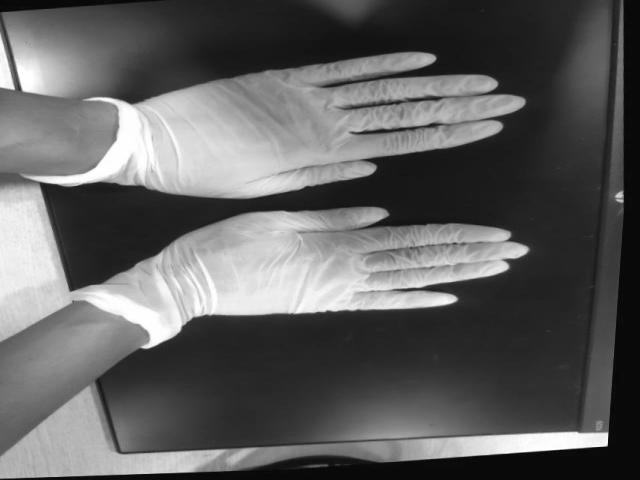gloved: (150, 49, 516, 200), (164, 205, 536, 315)
